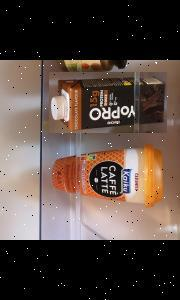Yogur: (48, 72, 166, 133)
